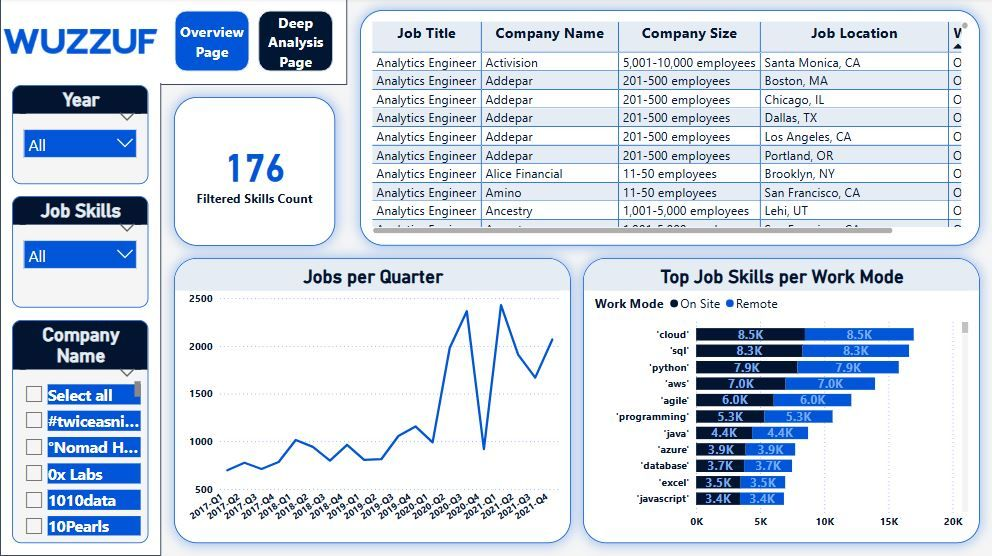

The page's visual inventory and layout, read from the dashboard file:
{"tool":"powerbi","page":{"name":"Deep Analysis Page","canvas":[1280,720],"ordinal":1},"visuals":[{"type":"shape","box":[0,0,448,112],"z":0},{"type":"shape","box":[0,0,208,720],"z":1000},{"type":"shape","box":[2,3,208,107],"z":2000},{"type":"barChart","title":"Top Job Skills per Work Mode","fields":{"Category":["Skills_Frequency.Job Skills"],"Y":["Sum(Skills_Frequency.Count)"],"Series":["Wuzzuf_Jobs_Posting.Work Mode"]},"box":[752,336,512,368],"z":3000},{"type":"tableEx","fields":{"Values":["Wuzzuf_Jobs_Posting.Job Title","Wuzzuf_Jobs_Posting.Company Name","Wuzzuf_Jobs_Posting.Company Size","Wuzzuf_Jobs_Posting.Job Location","Wuzzuf_Jobs_Posting.Work Mode"]},"box":[464,16,800,304],"z":4000},{"type":"card","fields":{"Values":["Wuzzuf_Jobs_Posting.Filtered Skills Count"]},"box":[224,128,208,192],"z":5000},{"type":"slicer","title":"Job Skills","fields":{"Values":["Skills_Frequency.Job Skills"]},"box":[16,256,176,144],"z":6000},{"type":"slicer","title":"Company Name","fields":{"Values":["Wuzzuf_Jobs_Posting.Company Name"]},"box":[16,416,176,288],"z":7000},{"type":"lineChart","title":"Jobs per Quarter ","fields":{"Y":["Wuzzuf_Jobs_Posting.Total Jobs"],"Category":["Calendar.Year-Quarter"]},"box":[224,336,512,368],"z":8000},{"type":"pageNavigator","title":"Page","box":[224,16,208,80],"z":9000},{"type":"image","box":[0,0,208,112],"z":10000},{"type":"slicer","title":"Year","fields":{"Values":["Calendar.Year"]},"box":[16,112,176,128],"z":10001}]}

Visuals, with their boxes in screenshot pixels (x1, y1, x2, y2), scaled from the page's 1280x720 canvas onto the 992x556 screenshot:
shape: rect(0, 0, 347, 86)
shape: rect(0, 0, 161, 555)
shape: rect(2, 2, 163, 85)
"Top Job Skills per Work Mode" barChart: rect(583, 259, 980, 544)
tableEx - Wuzzuf_Jobs_Posting.Job Title x Wuzzuf_Jobs_Posting.Company Name: rect(360, 12, 980, 247)
card - Wuzzuf_Jobs_Posting.Filtered Skills Count: rect(174, 99, 335, 247)
"Job Skills" slicer: rect(12, 198, 149, 309)
"Company Name" slicer: rect(12, 321, 149, 544)
"Jobs per Quarter " lineChart: rect(174, 259, 570, 544)
"Page" pageNavigator: rect(174, 12, 335, 74)
image: rect(0, 0, 161, 86)
"Year" slicer: rect(12, 86, 149, 185)
